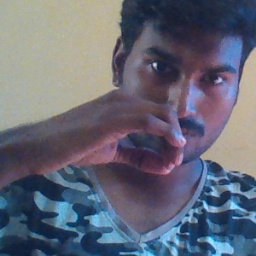O: (58, 81, 198, 190)
